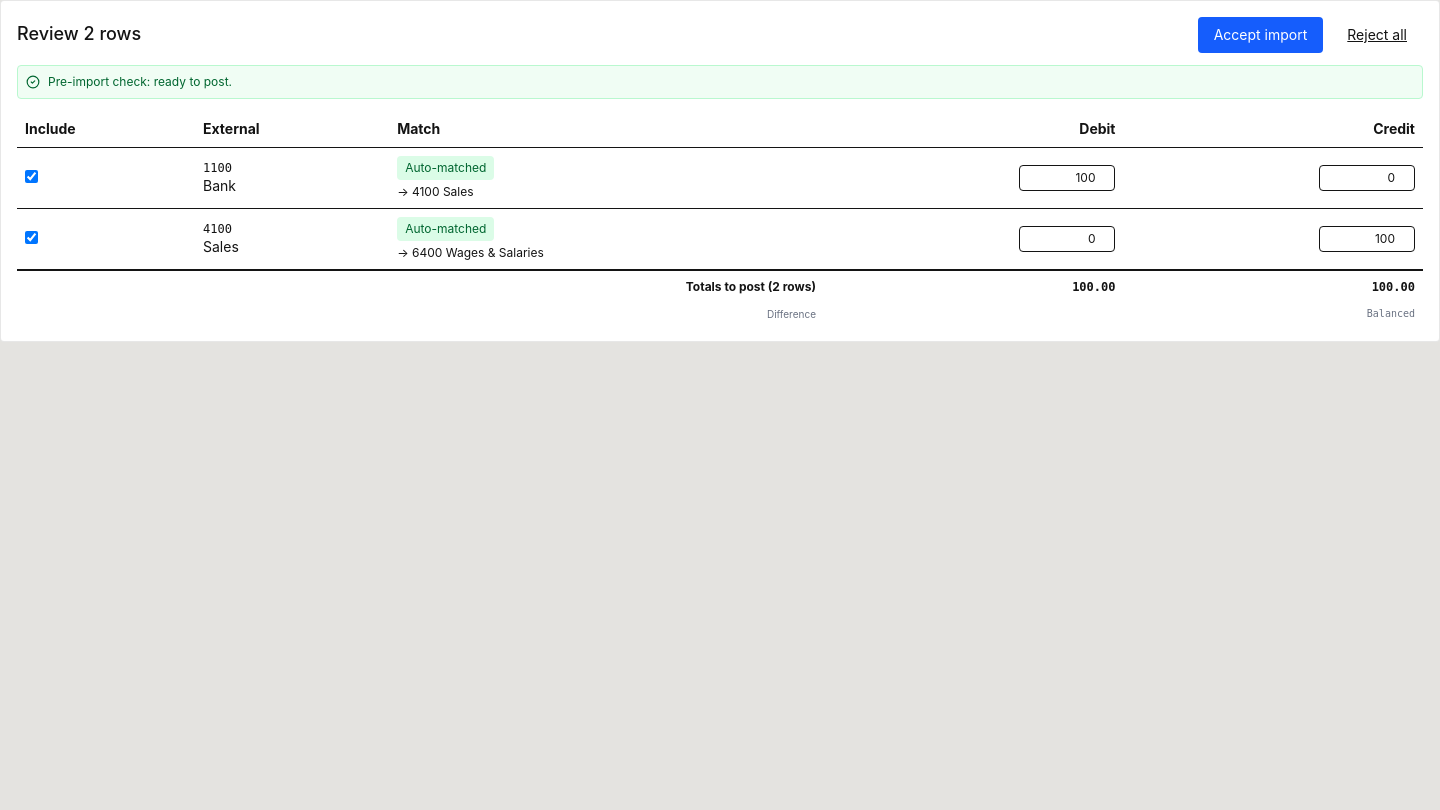
Test: ImportReviewPane (IMP-03) › Back to review closes the confirm dialog without posting
Click the button with test id "accept-import": (1260, 35) [1198,17,1323,53]
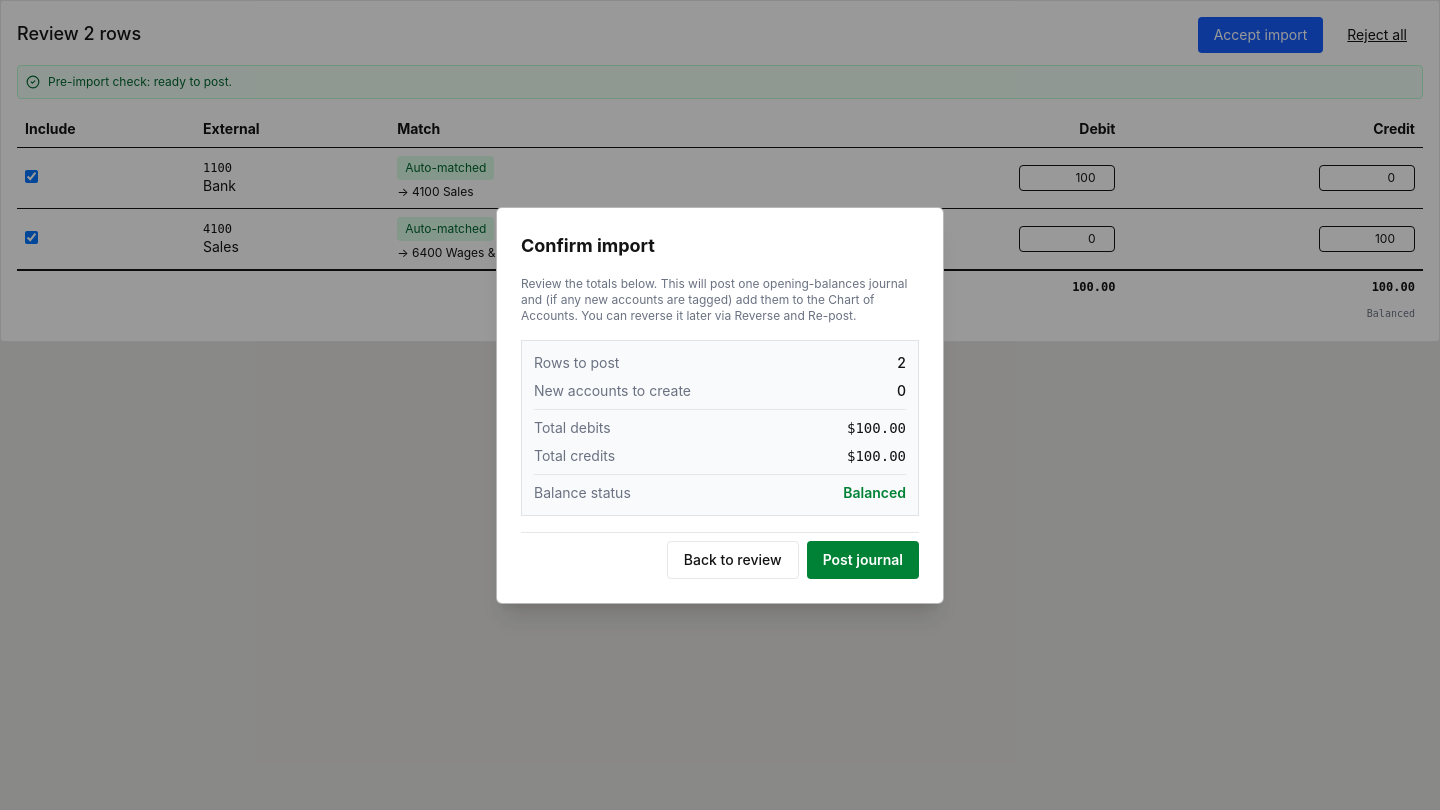
Expected: the dialog with test id "import-confirm-dialog" is shown
Click the button with test id "confirm-cancel": (733, 560) [667,540,799,578]
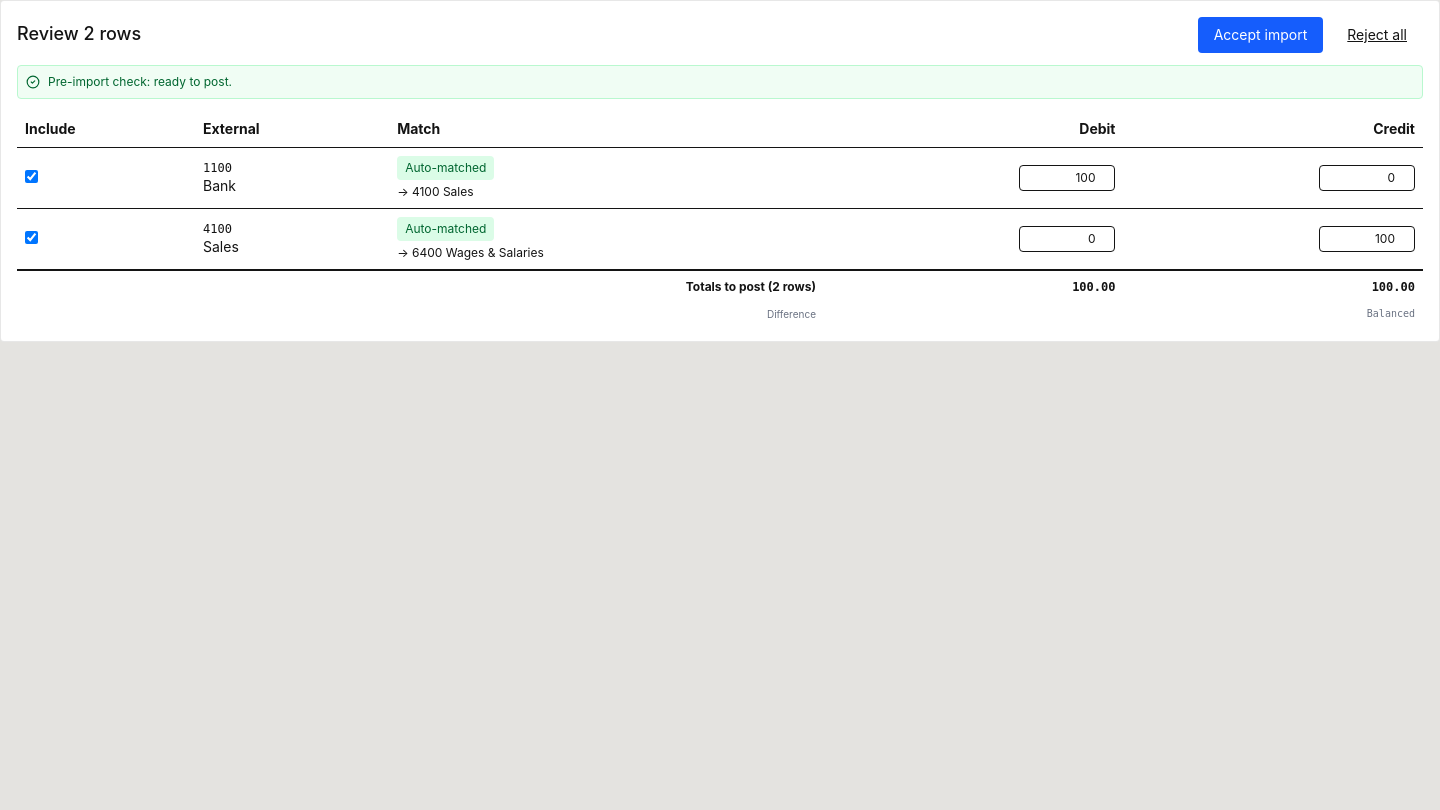
Expected: the dialog with test id "import-confirm-dialog" is gone
